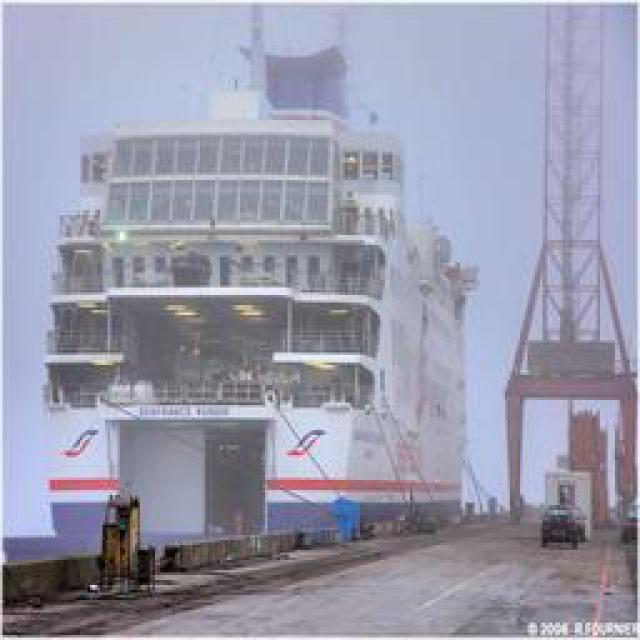Ship: (42, 6, 484, 570)
